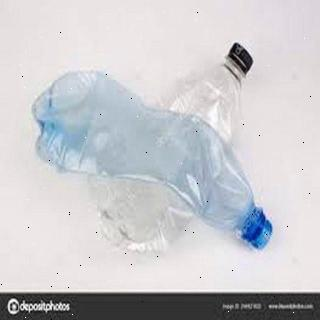Plastic-bottle: (31, 70, 275, 252), (102, 43, 256, 261)
